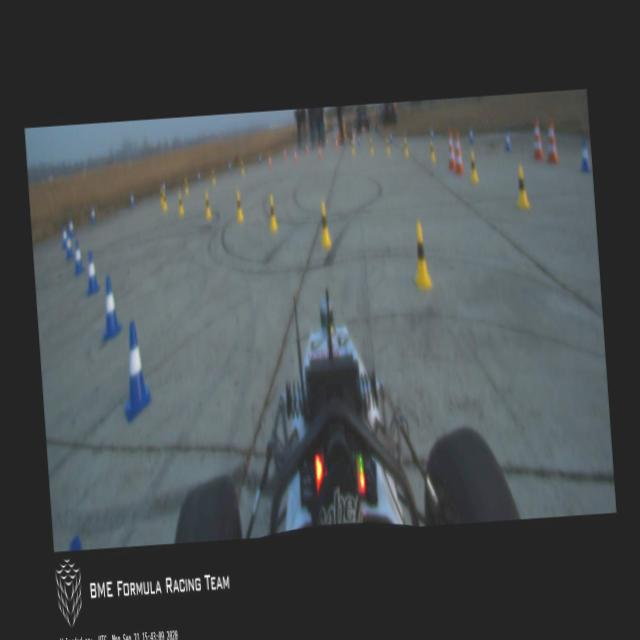blue_cone: (118, 319, 152, 422), (99, 274, 122, 339), (84, 248, 100, 294), (72, 240, 84, 274), (578, 140, 589, 170), (64, 234, 73, 258), (61, 225, 68, 248), (504, 131, 511, 151), (68, 218, 74, 235), (90, 206, 95, 222), (469, 127, 473, 143), (258, 153, 262, 164), (130, 192, 133, 206), (430, 126, 433, 140), (162, 181, 165, 193), (197, 171, 200, 181), (389, 132, 392, 142), (357, 136, 360, 146), (228, 162, 230, 170)
large_orange_cone: (544, 118, 558, 163), (532, 117, 544, 160), (452, 132, 462, 174), (446, 128, 455, 168)
orange_cone: (268, 152, 272, 167), (294, 148, 298, 162), (282, 146, 286, 158), (334, 138, 338, 148), (318, 144, 320, 158), (306, 142, 308, 153)
yellow_cone: (409, 221, 432, 289), (514, 165, 528, 208), (318, 201, 331, 246), (268, 195, 278, 229), (468, 150, 478, 182), (234, 189, 243, 220), (203, 192, 211, 218), (178, 192, 184, 214), (429, 140, 435, 162), (403, 135, 408, 156), (368, 137, 373, 153), (162, 192, 166, 209), (159, 187, 163, 204), (386, 136, 390, 152), (184, 178, 188, 193), (350, 140, 354, 154), (212, 170, 215, 184), (240, 160, 243, 173)
